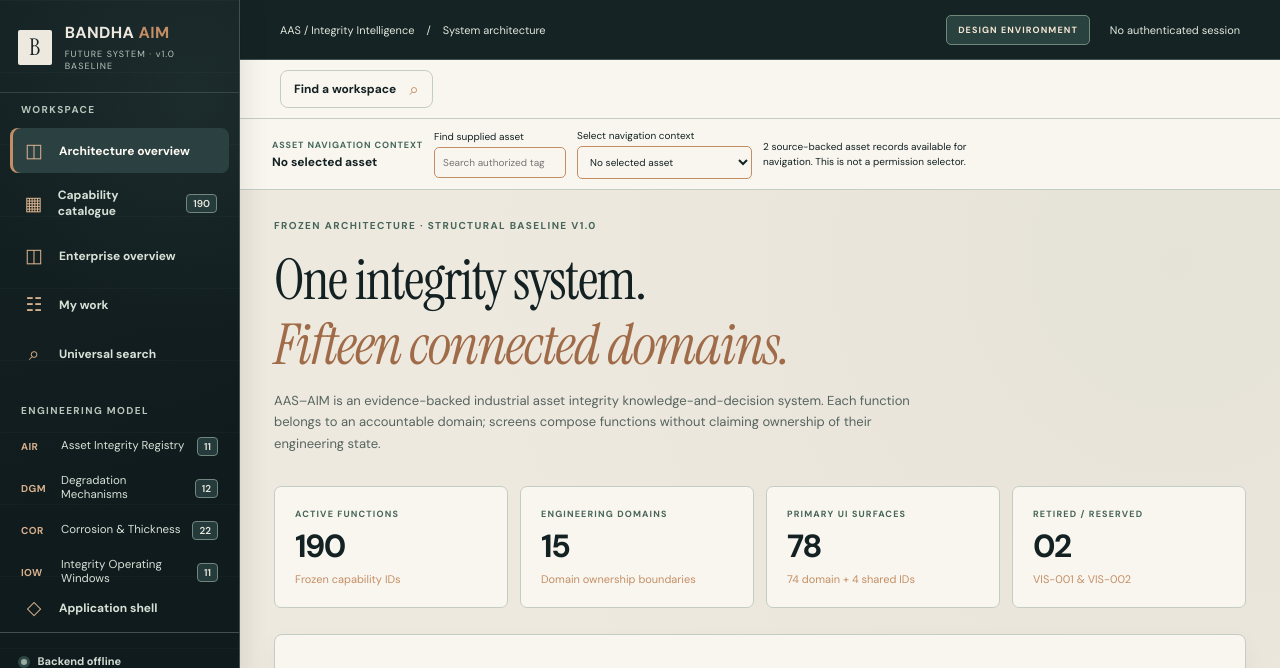
Test: Phase 19 — shell-level record navigation context › displays exact object and source revision after owning-screen navigation
Click the button "⌕ Universal search" at (120, 354), box [10,331,229,376]
(page scrolled)
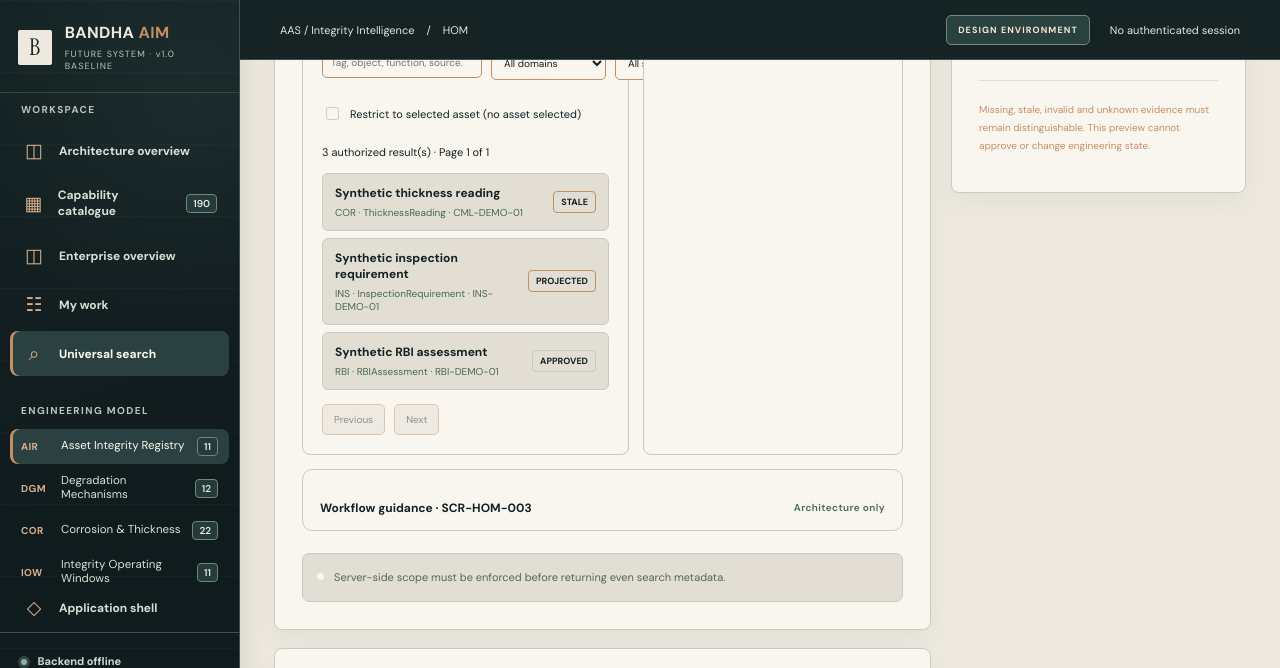
Click the button "Synthetic RBI assessment" at (466, 361), box [322,332,609,390]
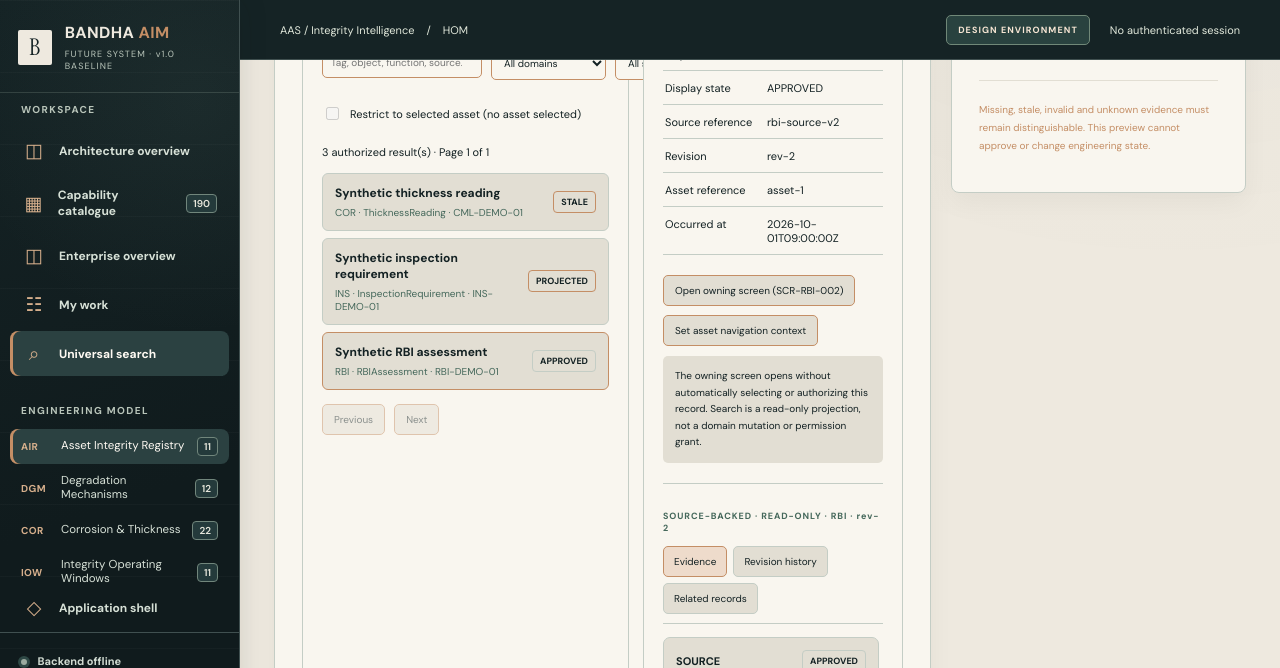
Click the button "Open owning screen (SCR-RBI-002)" at (759, 291), box [663,275,855,306]
(page scrolled)
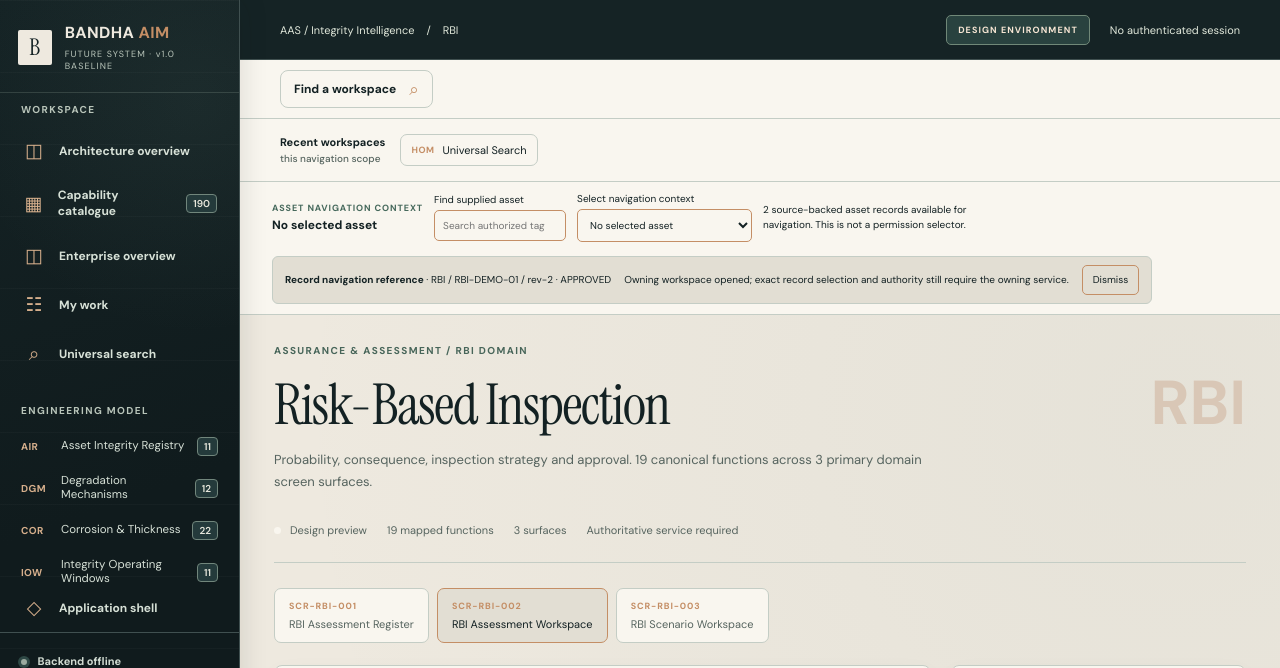
Expected: the text "Record navigation reference" is shown, [285,273,424,286]
Expected: the text "RBI-DEMO-01 / rev-2" is shown, [285,272,611,288]
